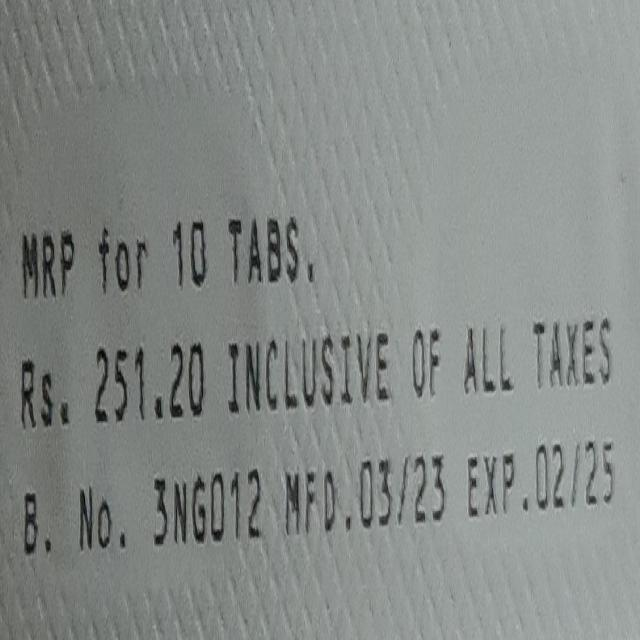sentence: (11, 432, 616, 570), (20, 310, 612, 436), (19, 210, 300, 308)
